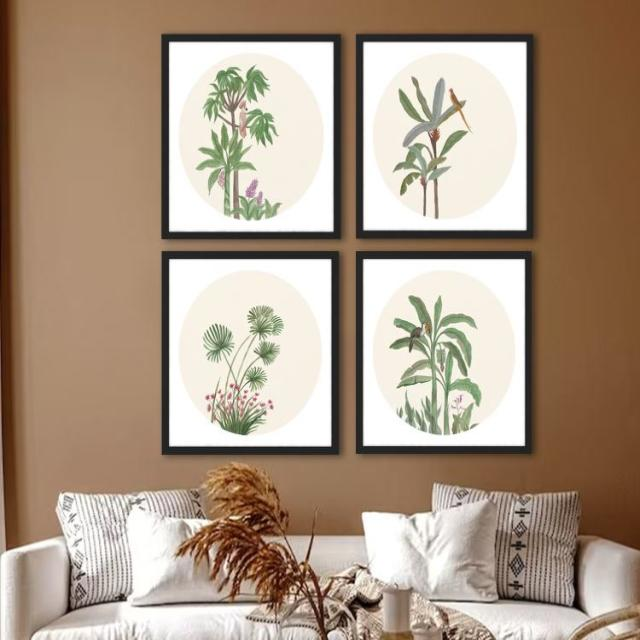painting: (162, 252, 342, 458), (161, 34, 341, 239), (354, 251, 533, 457), (357, 34, 536, 239)
